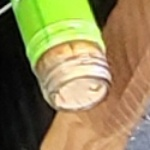bottle: (23, 32, 129, 125)
